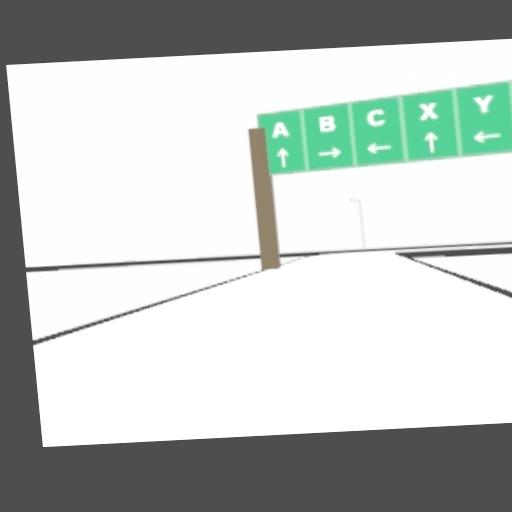A: (269, 121, 289, 138)
B: (318, 115, 335, 132)
C: (365, 107, 385, 127)
Left: (471, 129, 502, 144), (365, 141, 393, 153)
Right: (318, 147, 343, 158)
Straight: (423, 131, 438, 152), (275, 146, 290, 166)
X: (419, 101, 438, 118)
Y: (472, 94, 495, 114)
